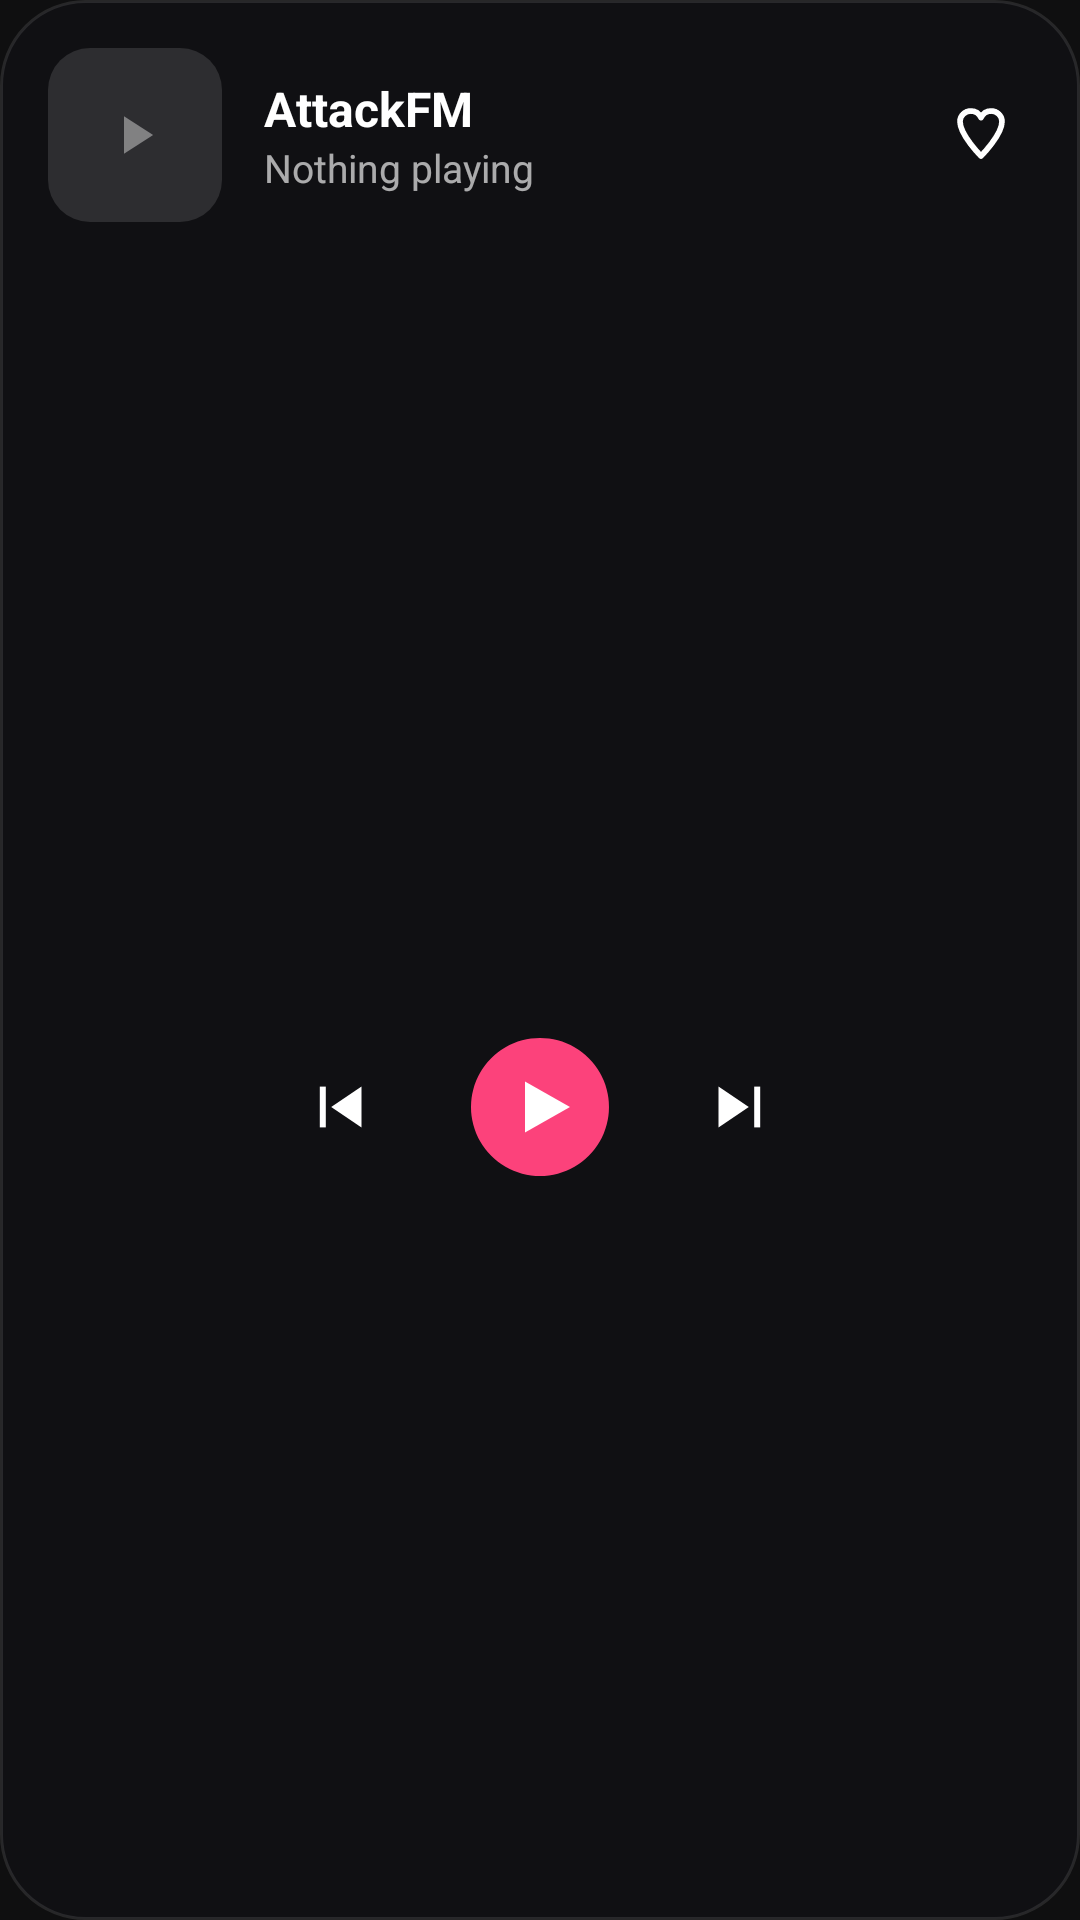

Named icons in this screenshot (1080 × 1920) and their centers, (x,y):
Favourite: (981,133)
Next: (739,1107)
Play or pause: (540,1107)
Previous: (340,1107)
